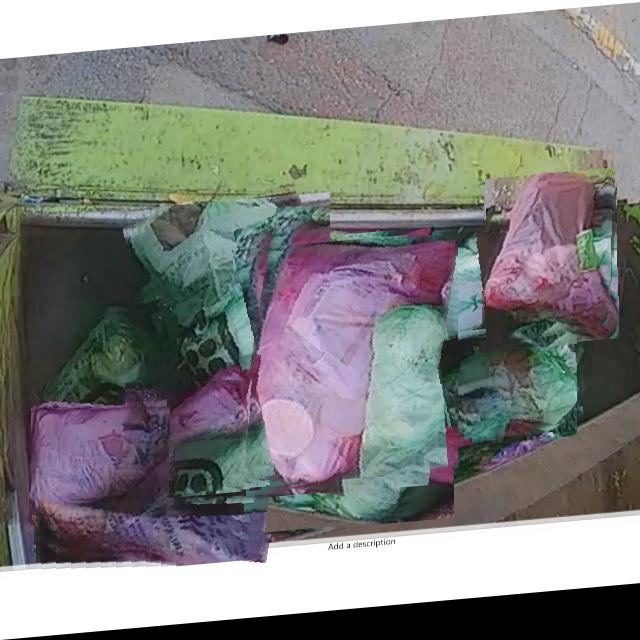general_trashbag: (133, 203, 329, 437), (435, 335, 577, 455), (257, 452, 449, 531), (49, 313, 162, 426), (404, 250, 498, 352)
other_trashbag: (243, 249, 457, 490), (487, 183, 613, 342), (29, 409, 170, 522), (41, 501, 266, 568), (125, 384, 250, 503)
